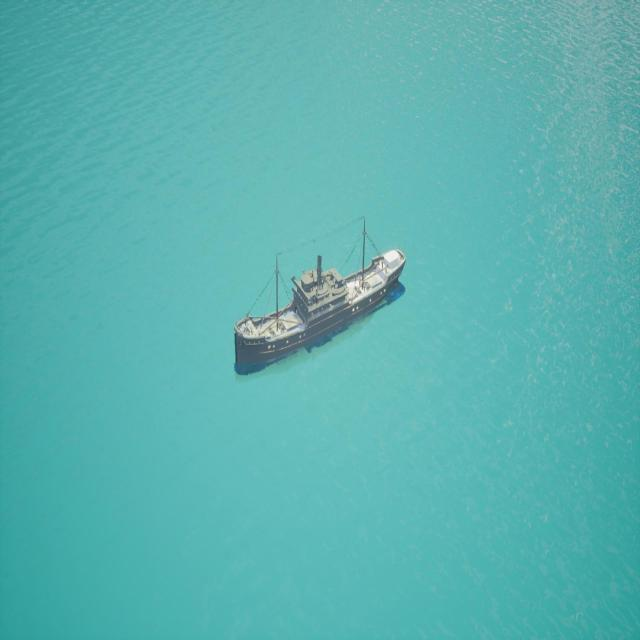fishing ship: (233, 225, 407, 381)
